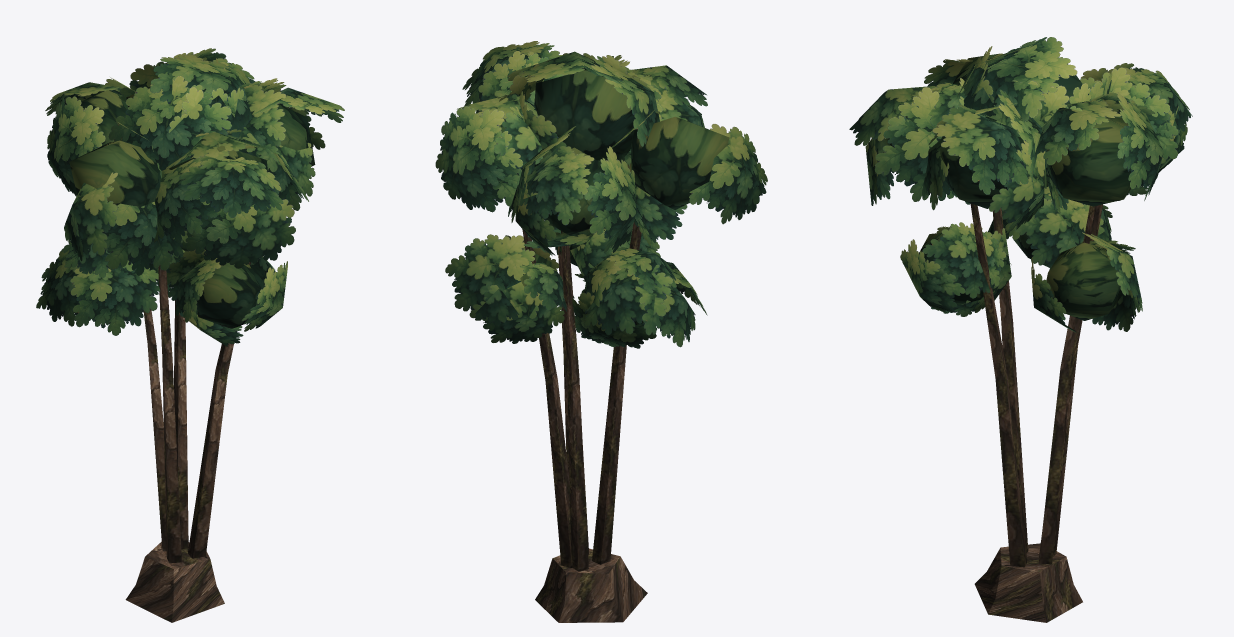
The model's file is tree_hazel_lod1.glb.
The picture shows the model from 3 angles, left to right: view 1: azimuth 30°, elevation 25°; view 2: azimuth 150°, elevation 25°; view 3: azimuth 270°, elevation 25°; orthographic projection. The views are drawn at different scales.
Parts seen in each view (by area): view 1: tree_hazel_lod1; view 2: tree_hazel_lod1; view 3: tree_hazel_lod1.
Part boxes in pixels (x1,y1,x2,y2): tree_hazel_lod1: (36,48,344,622); tree_hazel_lod1: (435,41,767,622); tree_hazel_lod1: (849,37,1192,622).
Bounding box in the file's own units: 2.63 × 4.63 × 2.88.
Materials: 2 (2 with a texture image).
